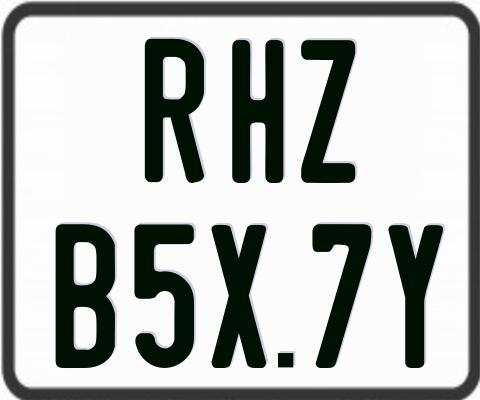5: (134, 224, 200, 373)
7: (310, 224, 373, 373)
B: (54, 224, 115, 372)
H: (230, 39, 281, 182)
R: (144, 36, 204, 185)
X: (212, 223, 266, 367)
Y: (387, 225, 445, 369)
Z: (300, 37, 356, 183)
